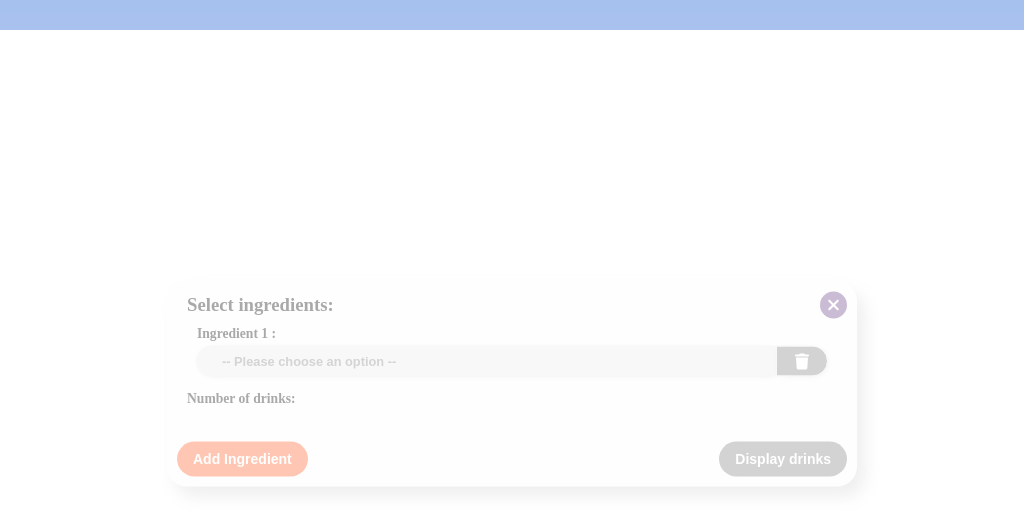
Test: Tests for interactions with Ingredient-prompt component › should display "display drinks" button enabled
Check: the button "Display drinks" is disabled, box 719,442 -> 847,476
Select "Tea" in the dropdown with test id "selectField1": (487, 361) 197,346 -> 777,376
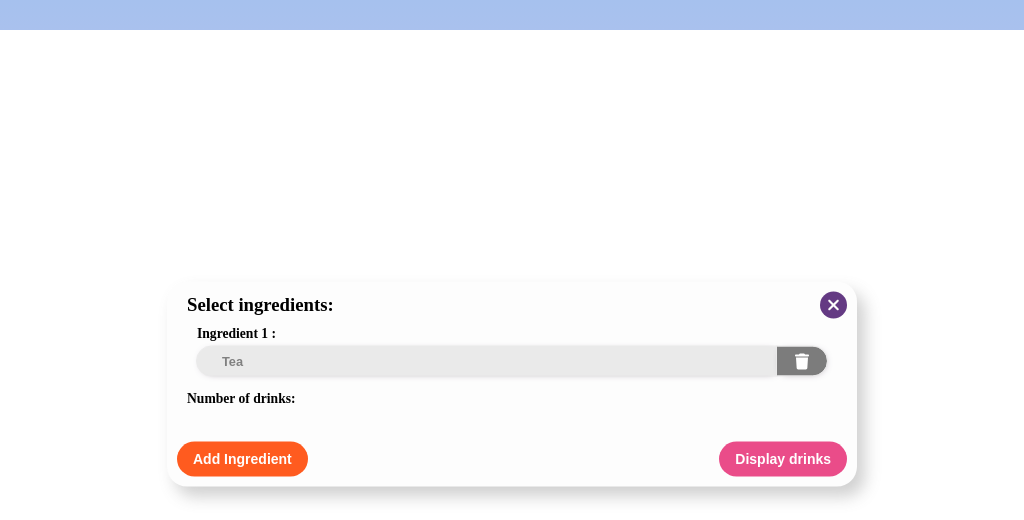
Check: the button "Display drinks" is enabled, box 719,442 -> 847,476
